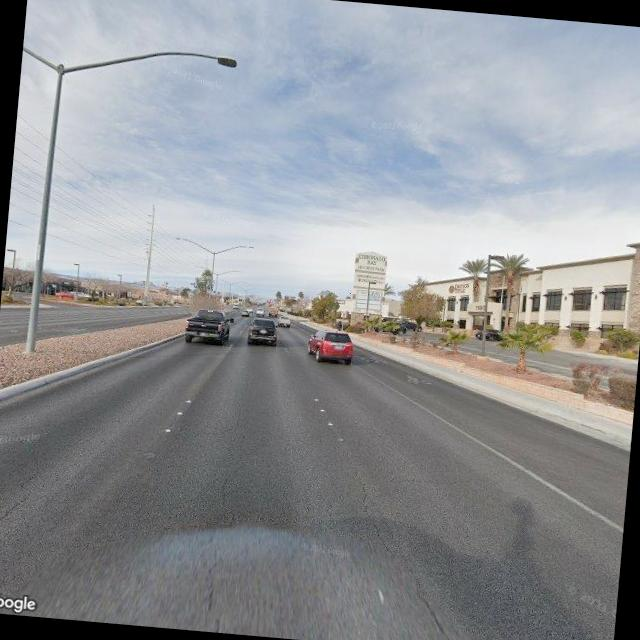crack: (344, 465, 398, 551), (0, 478, 33, 562)
